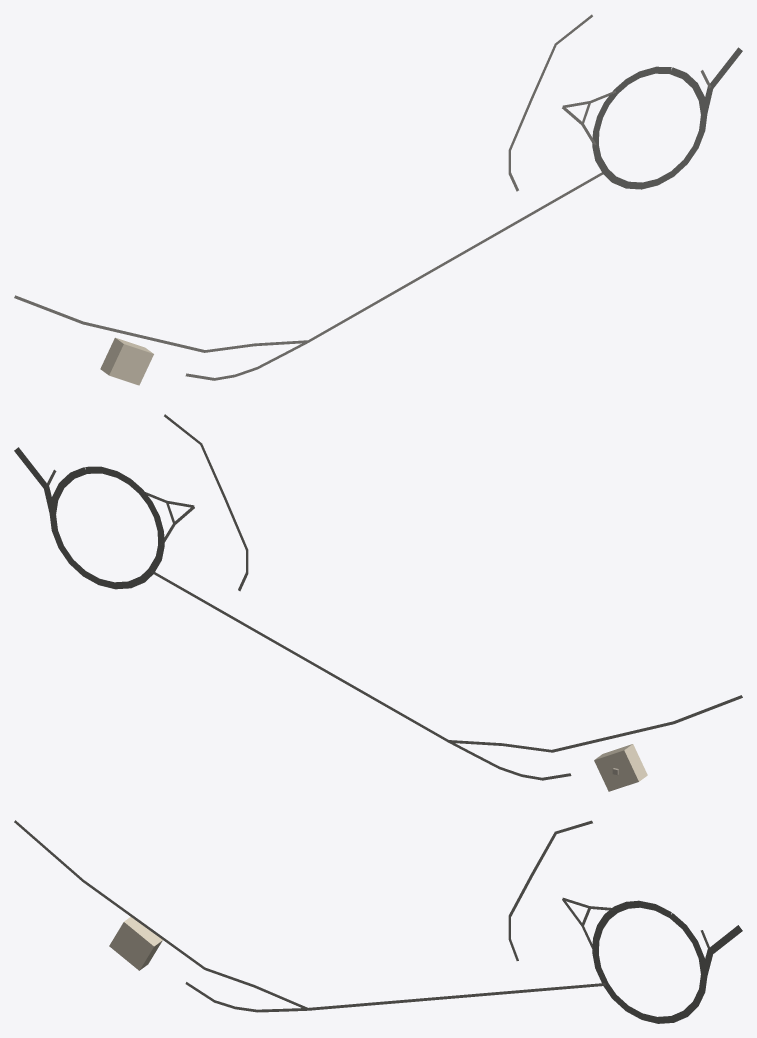
File: historic-palestine-04_23_3461_3176.glb
3 views of the same model, one above another, from view 1: azimuth 30°, elevation 25°; view 2: azimuth 150°, elevation 25°; view 3: azimuth 330°, elevation 25° (orthographic).
Parts seen in each view (by area): view 1: Road, Building_, Road .001, Road .002, Road .005; view 2: Road, Building_, Road .001, Road .002, Road .005; view 3: Road, Building_, Road .001, Road .002, Road .005, Road שדרות הים התיכון.
Part boxes in pixels (<box>): Road: <box>592,66,707,189</box>; Building_: <box>100,337,153,385</box>; Road .001: <box>185,172,602,380</box>; Road .002: <box>14,295,307,352</box>; Road .005: <box>508,14,592,191</box>; Road: <box>49,466,164,589</box>; Building_: <box>594,744,647,791</box>; Road .001: <box>151,570,571,780</box>; Road .002: <box>449,695,742,752</box>; Road .005: <box>164,414,248,591</box>; Road: <box>592,900,707,1023</box>; Building_: <box>109,917,162,970</box>; Road .001: <box>185,982,605,1012</box>; Road .002: <box>14,820,307,1008</box>; Road .005: <box>508,820,592,960</box>; Road שדרות הים התיכון: <box>701,925,742,975</box>.
Size of the model in its own units: 356 by 129 by 8.7.
